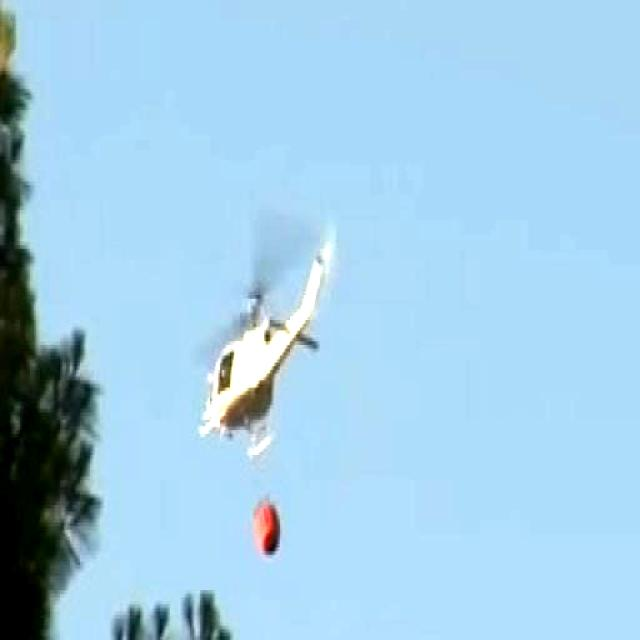drone: (196, 230, 332, 465)
